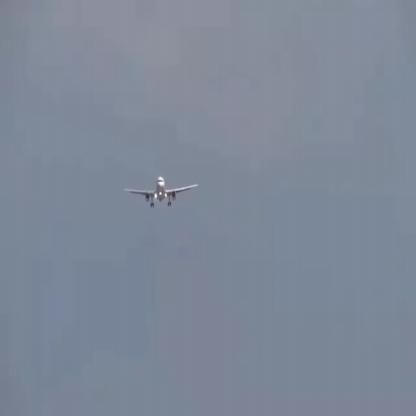CIV_Plane: (124, 176, 198, 209)
